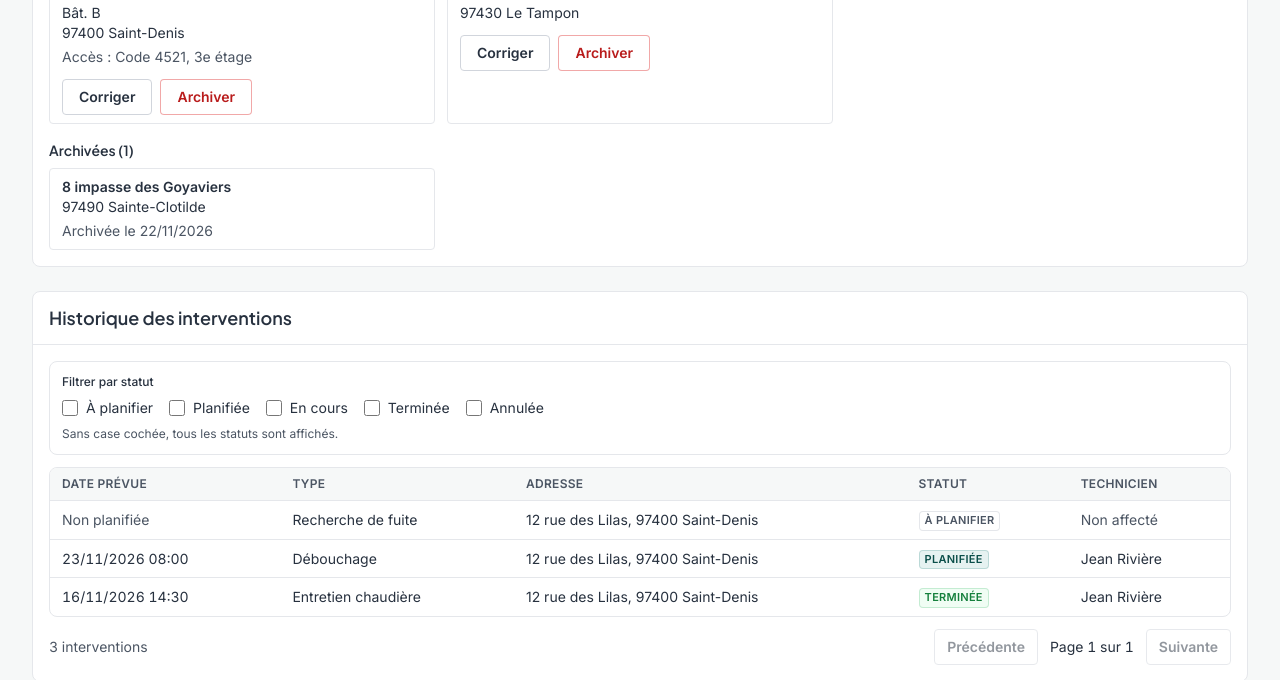
Test case: historique des interventions du client (US09) › US09 : annonce dans une zone restée en place le filtre qui vide l’historique puis celui qui le remplit
(page scrolled)
Expected: the text "Recherche de fuite" is shown, [280, 501, 514, 539]
Click the checkbox labelled "Annulée".
click(474, 408)  # box [466, 400, 482, 416]
(page scrolled)
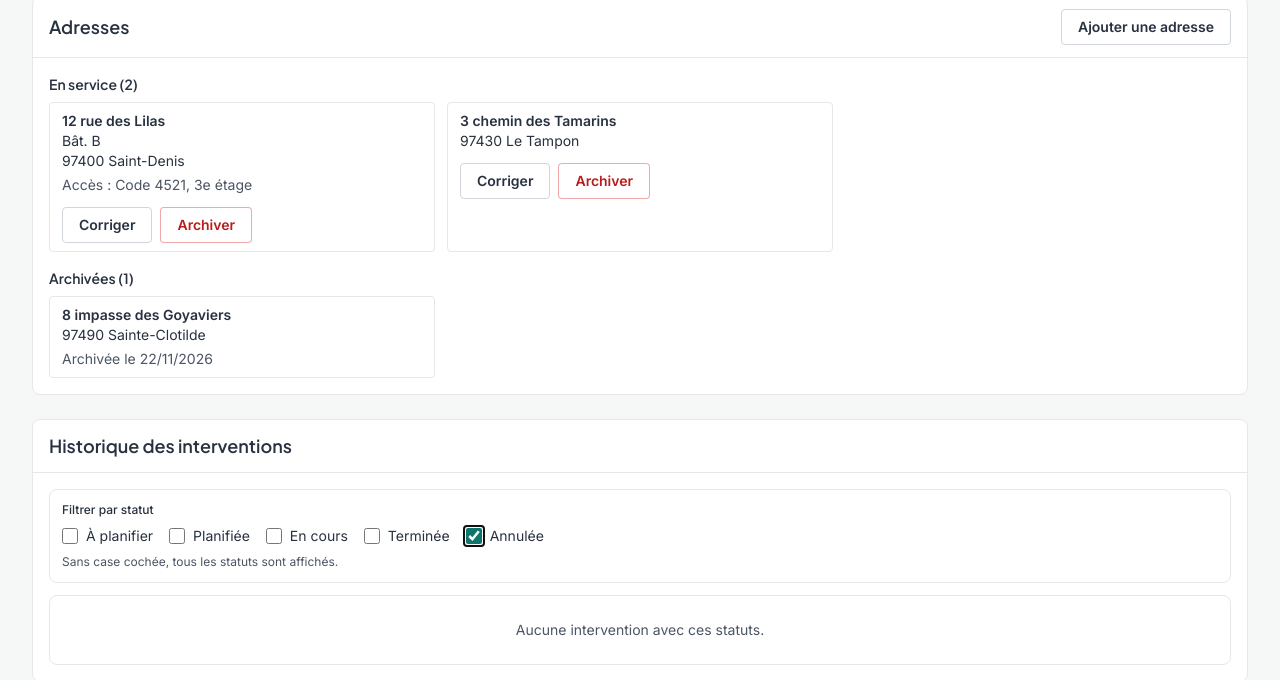
Click the checkbox labelled "Terminée".
click(372, 536)  # box [364, 528, 380, 544]
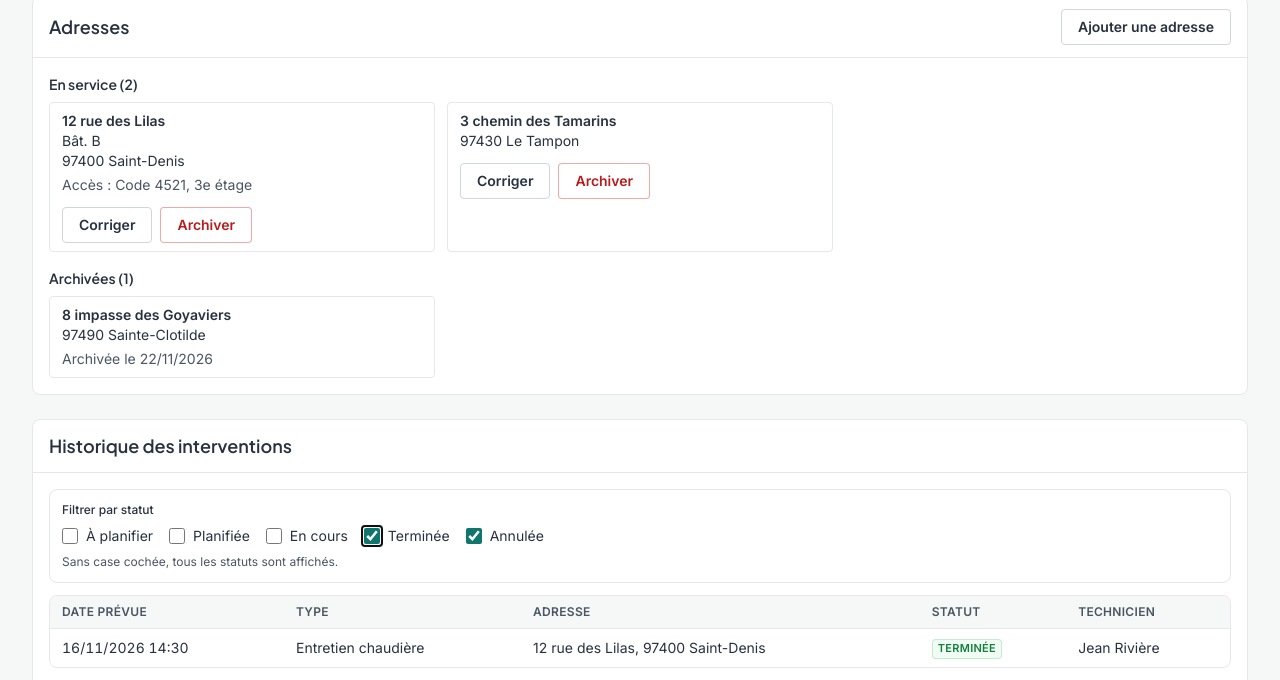
Expected: the text "Entretien chaudière" is shown, [284, 629, 521, 667]
